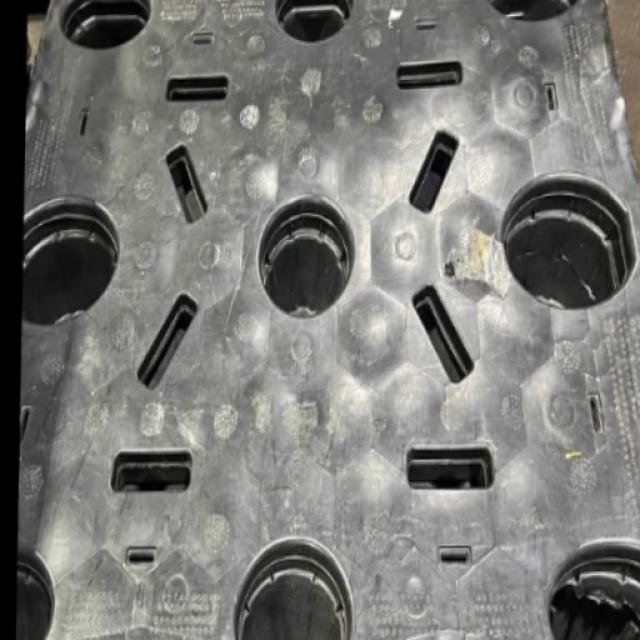non-igps: (7, 0, 638, 639)
